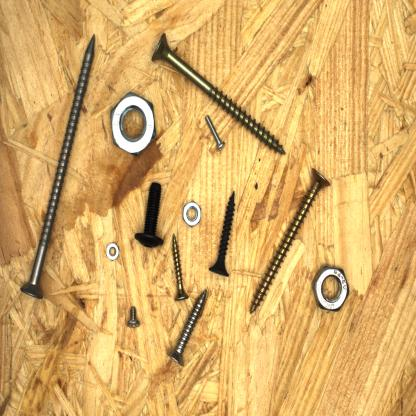screw: (18, 29, 97, 300), (150, 30, 287, 156), (248, 164, 335, 318), (166, 286, 210, 369), (204, 188, 238, 281), (131, 179, 166, 252), (168, 231, 191, 303), (202, 112, 227, 154), (122, 302, 144, 334)
